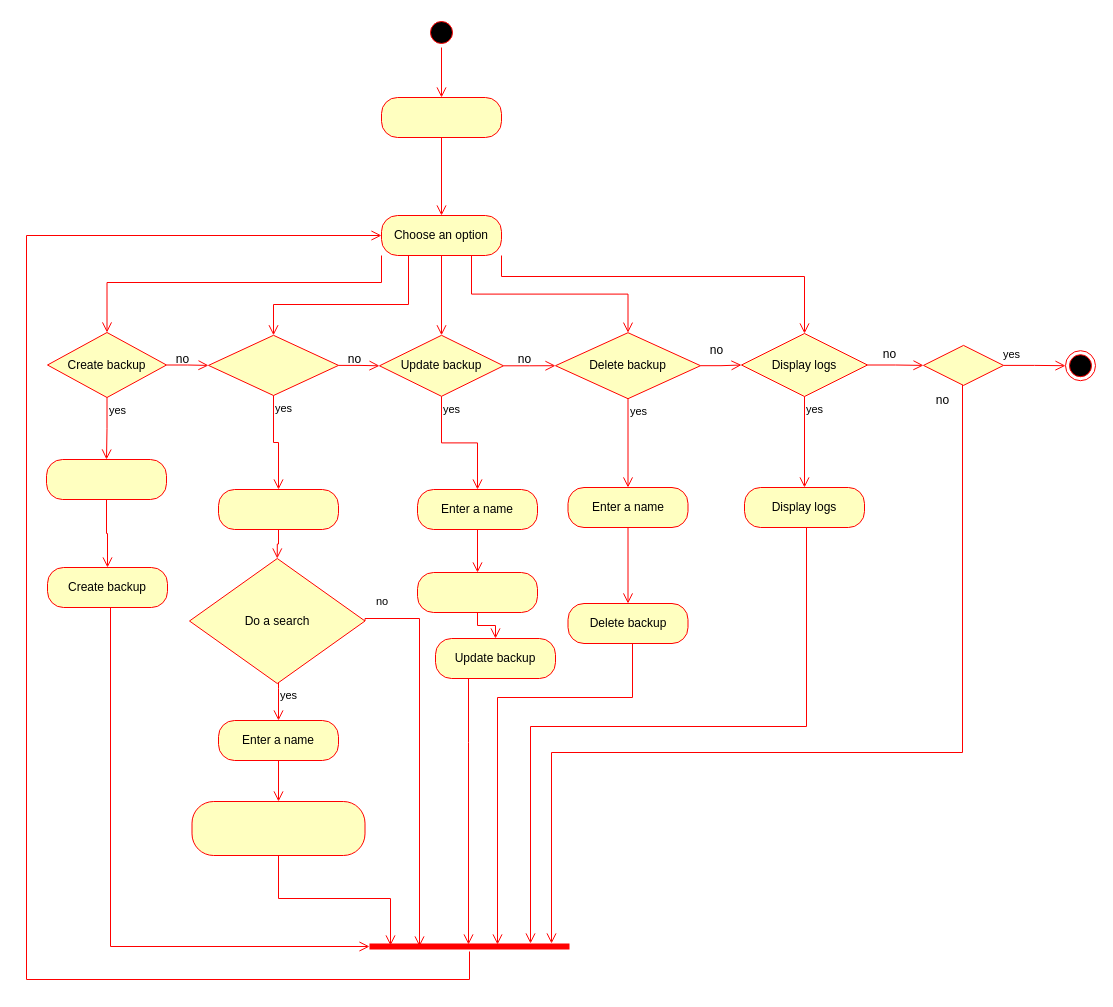
Some shapes in this 1113 by 1007 pixel diagram are drawn without their labels. The shapes that lost their labels are listed below. From the top down, each one's centre as x and y in pixels, then its label:
At pixel 441 117: "Choose a language".
At pixel 273 365: "Display backups".
At pixel 963 364: "Leave".
At pixel 106 479: "Enter backup informations".
At pixel 278 509: "Display backup list".
At pixel 477 592: "Enter update informations".
At pixel 278 828: "Display backup informations".
